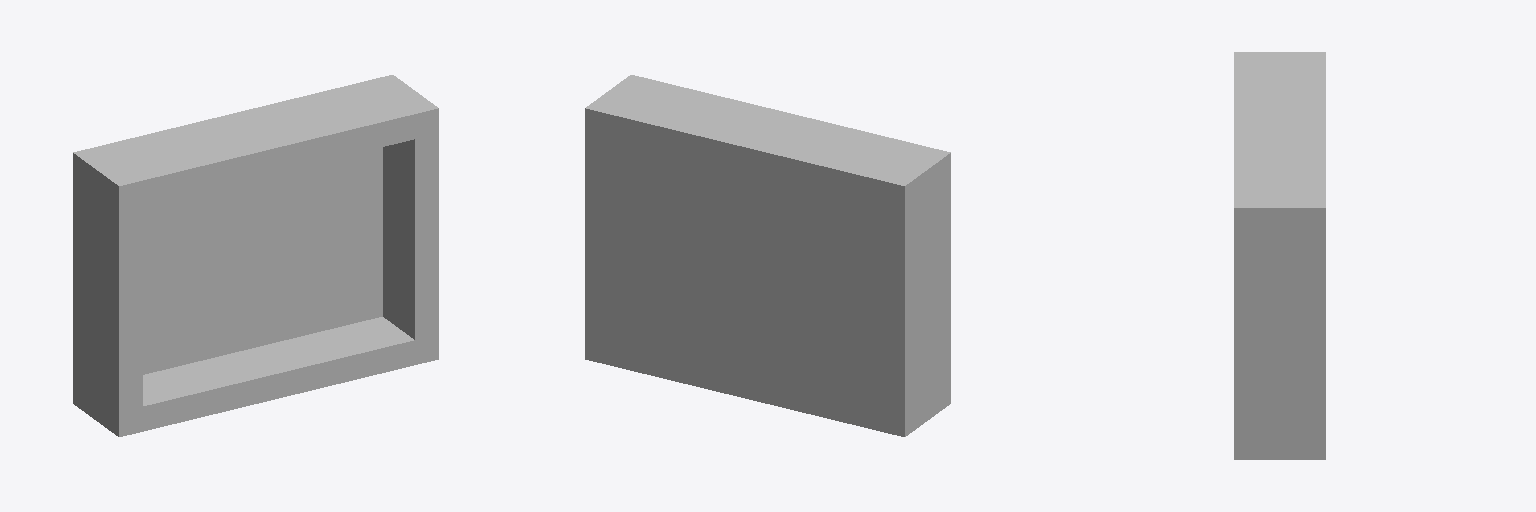
The model's file is safe_box.obj.
3 views of the same model, side by side, from view 1: azimuth 30°, elevation 25°; view 2: azimuth 150°, elevation 25°; view 3: azimuth 270°, elevation 25° (orthographic).
Visible parts, largest first — view 1: pCube3; view 2: pCube3; view 3: pCube3.
Part boxes in pixels (x1,y1,x2,y2): pCube3: (73,75,438,436); pCube3: (585,75,950,436); pCube3: (1234,52,1325,459).
Size of the model in its own units: 4 by 3 by 1.